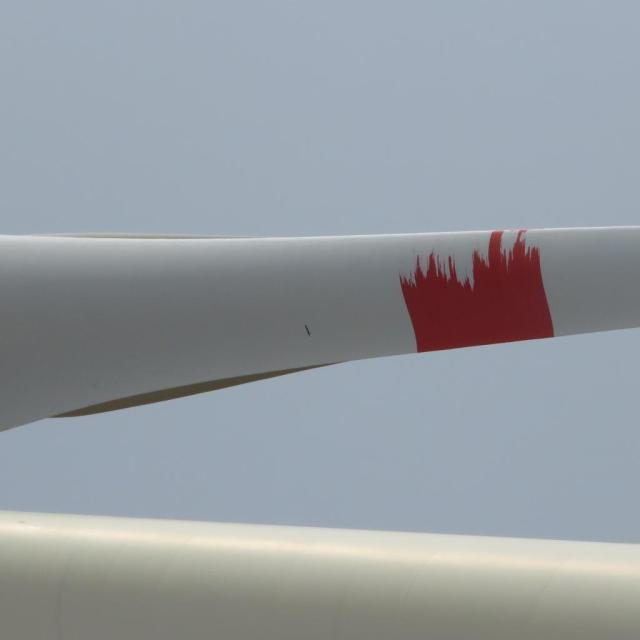surface_peeling: (398, 230, 557, 354)
